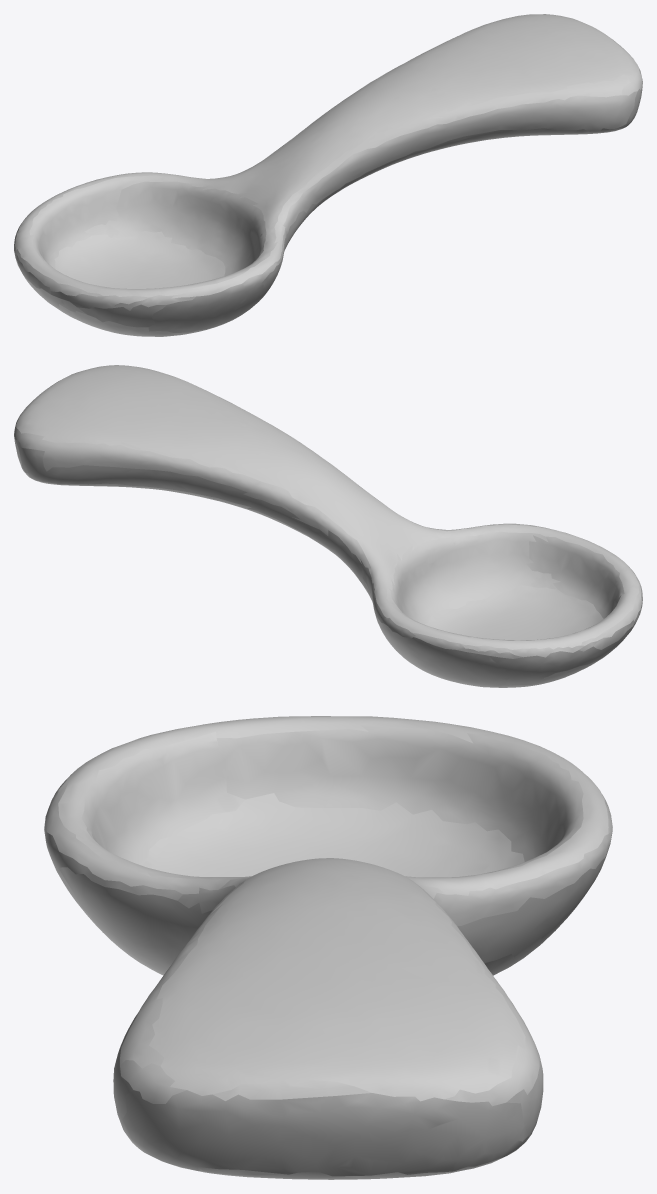
Rendered from i-spoon.glb.
The picture shows the model from 3 angles, top to bottom: view 1: azimuth 30°, elevation 25°; view 2: azimuth 150°, elevation 25°; view 3: azimuth 270°, elevation 25°; orthographic projection. The views are drawn at different scales.
Parts seen in each view (by area): view 1: geometry_0; view 2: geometry_0; view 3: geometry_0.
Part boxes in pixels (bbox=[...]): geometry_0: bbox=[14, 14, 642, 336]; geometry_0: bbox=[14, 365, 642, 687]; geometry_0: bbox=[44, 716, 612, 1179].
Bounding box in the file's own units: 0.15 × 0.0417 × 0.0639.
1 material, 1 textured.
